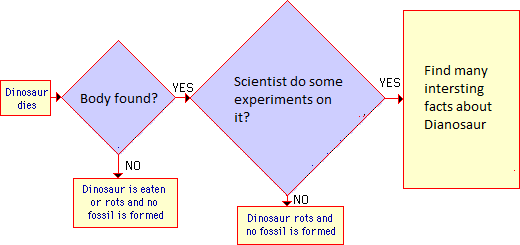arrow: (112, 151, 126, 180), (381, 92, 404, 106), (173, 90, 194, 103), (48, 90, 65, 105), (282, 190, 294, 209)
decision: (189, 1, 386, 196), (61, 39, 176, 156)
process: (400, 6, 520, 191), (71, 175, 180, 230), (234, 204, 346, 245), (1, 78, 53, 118)
text: (232, 74, 344, 123), (421, 61, 494, 133), (81, 182, 168, 222), (244, 211, 339, 240), (78, 89, 160, 108), (4, 86, 48, 111), (378, 75, 402, 90), (172, 81, 195, 95), (123, 158, 144, 172), (291, 192, 310, 205)
